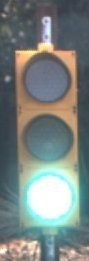Green: (13, 39, 85, 246)
